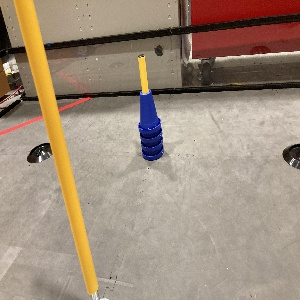Blue_4: (137, 90, 163, 158)
